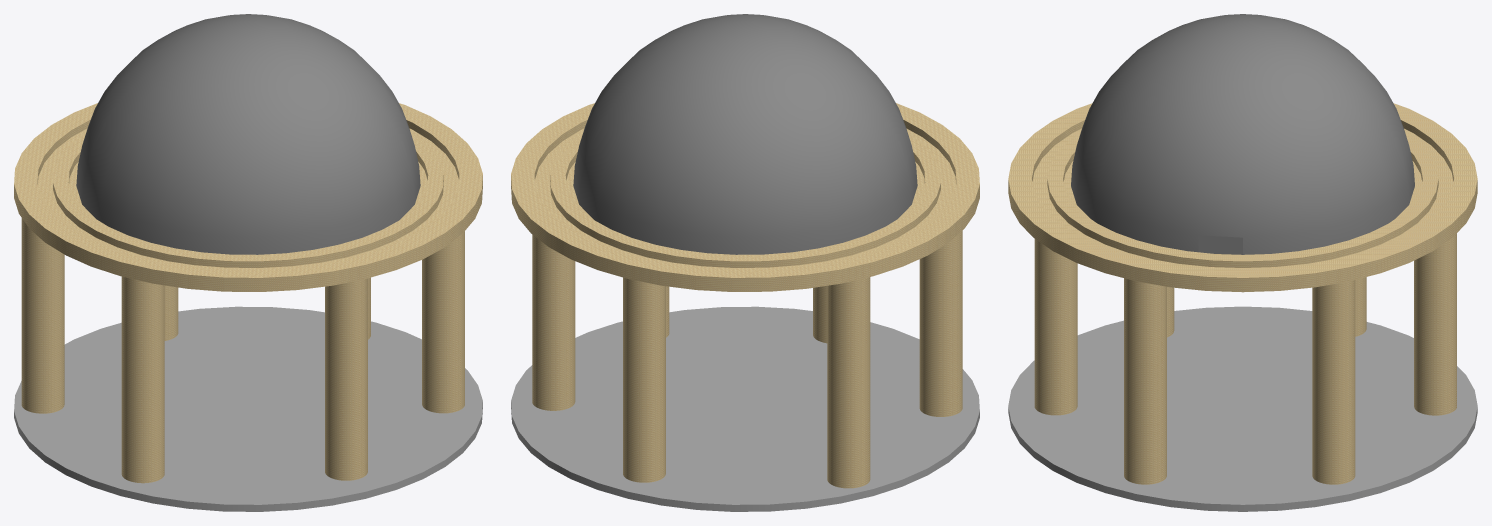
File: 小亭子.fbx
The picture shows the model from 3 angles, left to right: view 1: azimuth 30°, elevation 25°; view 2: azimuth 150°, elevation 25°; view 3: azimuth 270°, elevation 25°; orthographic projection.
Parts seen in each view (by area): view 1: _Mesh9Model, _Mesh1Group1Model, _Mesh8Group8Model, _Mesh3Group3Model4, _Mesh3Group3Model5, _Mesh3Group3Model3, _Mesh3Group3Model, _Mesh3Group3Model2; view 2: _Mesh9Model, _Mesh1Group1Model, _Mesh8Group8Model, _Mesh3Group3Model3, _Mesh3Group3Model2, _Mesh3Group3Model4, _Mesh3Group3Model1, _Mesh3Group3Model5; view 3: _Mesh9Model, _Mesh1Group1Model, _Mesh8Group8Model, _Mesh3Group3Model1, _Mesh3Group3Model, _Mesh3Group3Model5, _Mesh3Group3Model2, _Mesh3Group3Model3.
Boxes of the visible parts, bbox=[...] form: _Mesh9Model: bbox=[76, 14, 420, 254]; _Mesh1Group1Model: bbox=[14, 306, 482, 511]; _Mesh8Group8Model: bbox=[14, 103, 482, 291]; _Mesh3Group3Model4: bbox=[121, 276, 164, 483]; _Mesh3Group3Model5: bbox=[325, 278, 367, 480]; _Mesh3Group3Model3: bbox=[21, 218, 64, 413]; _Mesh3Group3Model: bbox=[422, 231, 464, 413]; _Mesh3Group3Model2: bbox=[164, 285, 178, 340]; _Mesh9Model: bbox=[573, 14, 917, 254]; _Mesh1Group1Model: bbox=[511, 306, 979, 511]; _Mesh8Group8Model: bbox=[511, 103, 979, 291]; _Mesh3Group3Model3: bbox=[827, 277, 870, 488]; _Mesh3Group3Model2: bbox=[623, 277, 665, 482]; _Mesh3Group3Model4: bbox=[919, 231, 962, 416]; _Mesh3Group3Model1: bbox=[532, 234, 575, 410]; _Mesh3Group3Model5: bbox=[813, 286, 827, 343]; _Mesh9Model: bbox=[1071, 14, 1414, 254]; _Mesh1Group1Model: bbox=[1008, 306, 1477, 511]; _Mesh8Group8Model: bbox=[1008, 103, 1477, 292]; _Mesh3Group3Model1: bbox=[1312, 280, 1355, 484]; _Mesh3Group3Model: bbox=[1124, 278, 1166, 484]; _Mesh3Group3Model5: bbox=[1034, 239, 1077, 415]; _Mesh3Group3Model2: bbox=[1414, 233, 1456, 415]; _Mesh3Group3Model3: bbox=[1355, 277, 1366, 336].
Size of the model in its own units: 6 by 5.4 by 6.
Materials: 4 (2 with a texture image).
